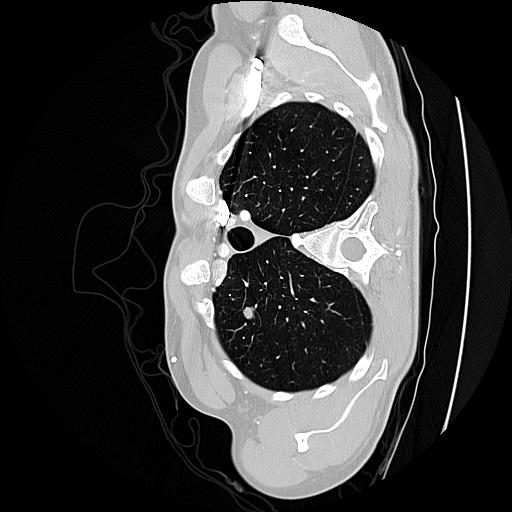nodule: (241, 306, 258, 323)
